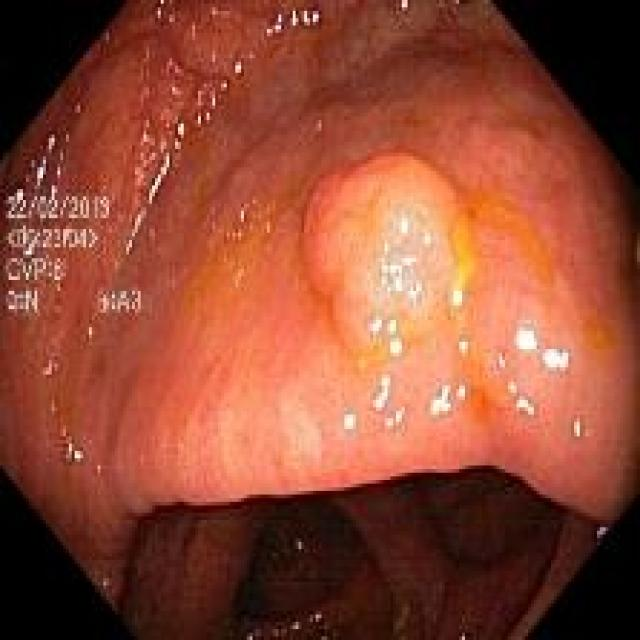Polyps: (304, 156, 461, 359)
